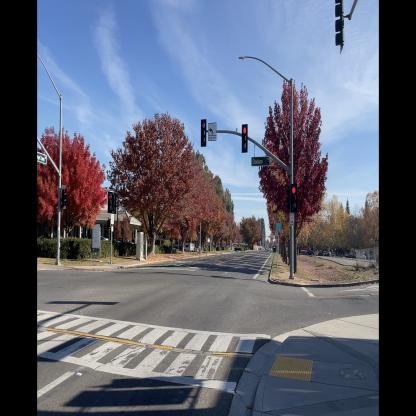left-red: (200, 118, 207, 150), (108, 190, 113, 214)
red: (290, 181, 298, 214), (241, 122, 249, 154), (61, 182, 67, 212)
